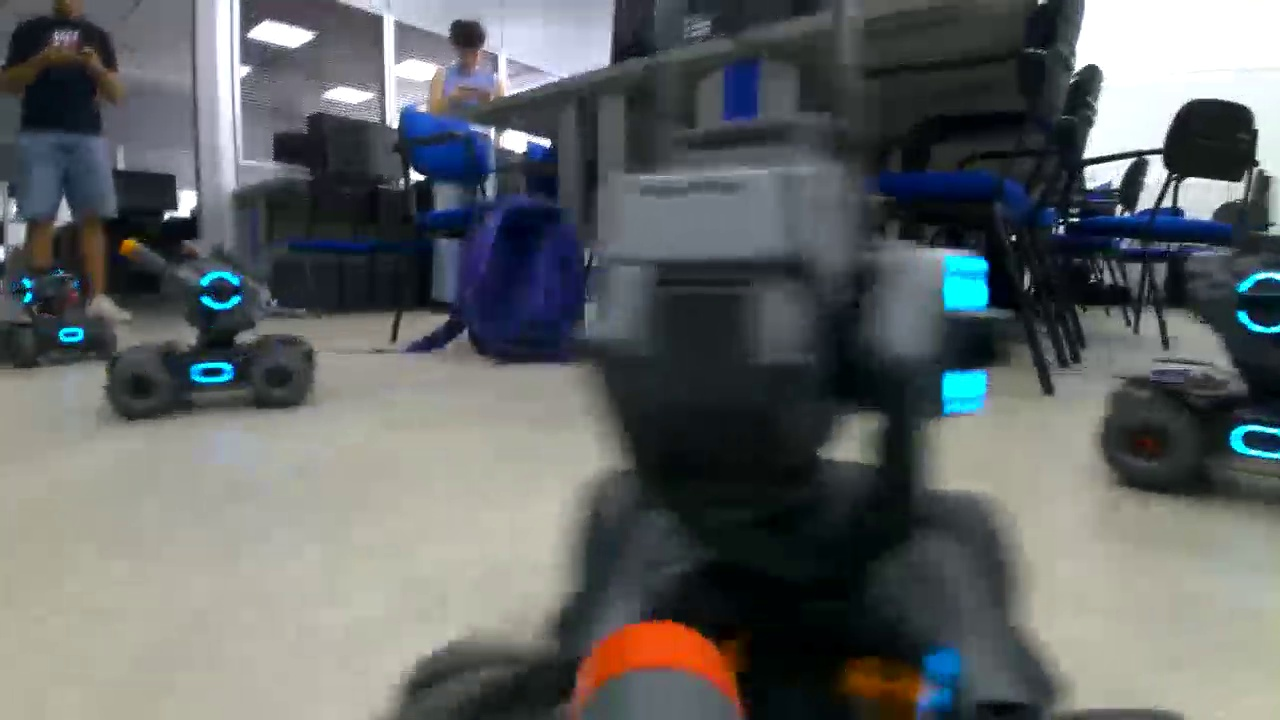robot: (378, 159, 1096, 720), (1095, 220, 1280, 522), (103, 261, 329, 422), (1, 268, 119, 377)
